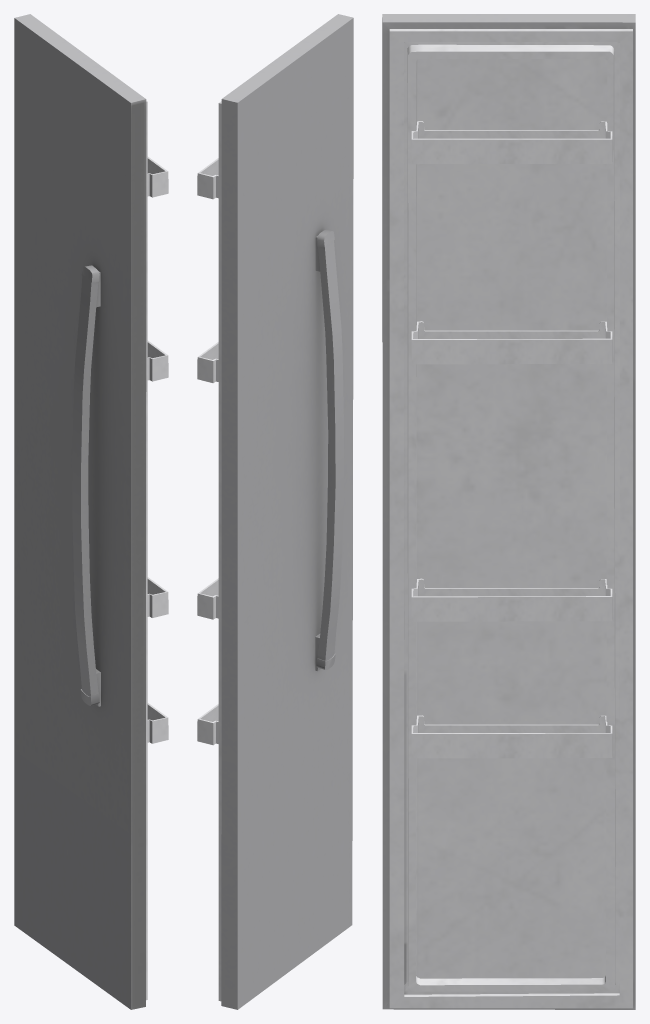
Rendered from SM_Fridge_A1_DoorB.fbx.
The picture shows the model from 3 angles, left to right: view 1: azimuth 30°, elevation 25°; view 2: azimuth 150°, elevation 25°; view 3: azimuth 270°, elevation 25°; orthographic projection. The views are drawn at different scales.
Parts seen in each view (by area): view 1: SM_Fridge_A1_DoorB; view 2: SM_Fridge_A1_DoorB; view 3: SM_Fridge_A1_DoorB.
Part boxes in pixels (bbox=[...]): SM_Fridge_A1_DoorB: bbox=[14, 14, 168, 1009]; SM_Fridge_A1_DoorB: bbox=[197, 14, 353, 1009]; SM_Fridge_A1_DoorB: bbox=[382, 14, 635, 1009].
Size of the model in its own units: 16.83 by 47.52 by 204.
Materials: 1 (1 with a texture image).
